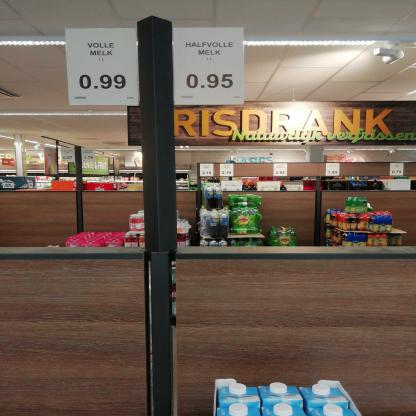prtg: (66, 30, 139, 107), (174, 28, 245, 106)
